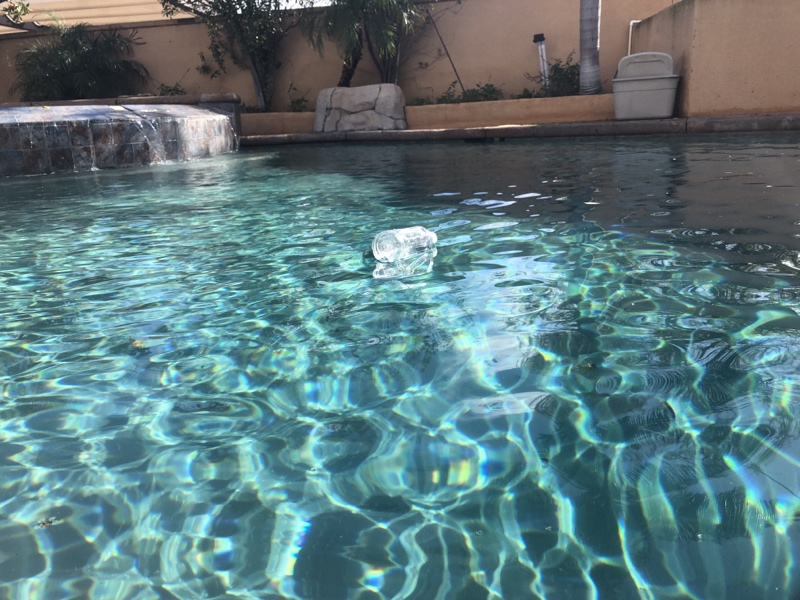Plastic Bottle: (368, 225, 442, 266)
